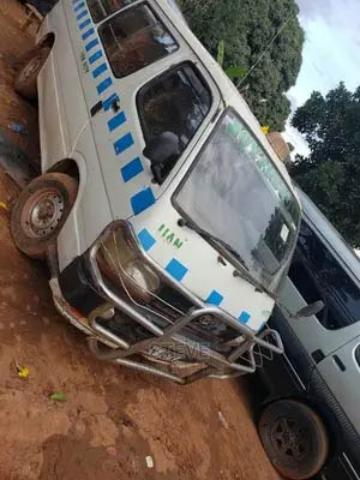van: (10, 0, 300, 388)
